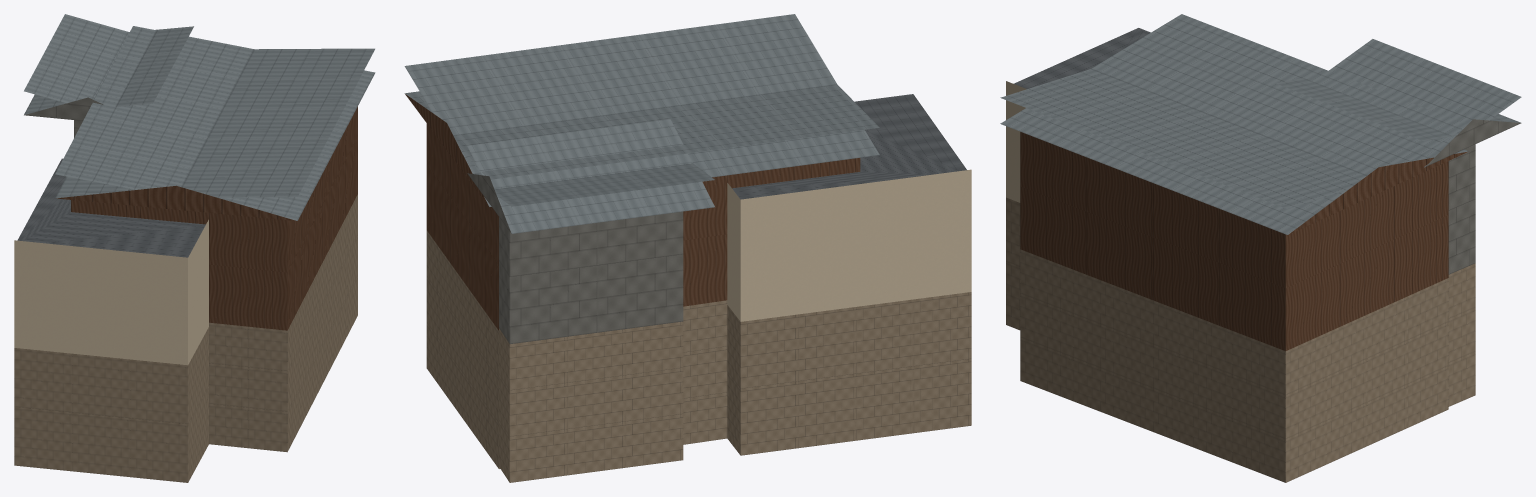
Rendered from bld_c11_11_495.gltf.
3 renders of one model, left to right at view 1: azimuth 30°, elevation 25°; view 2: azimuth 150°, elevation 25°; view 3: azimuth 270°, elevation 25°, orthographic. The views are drawn at different scales.
Visible parts, largest first — view 1: bld_c11_11_495; view 2: bld_c11_11_495; view 3: bld_c11_11_495.
Boxes of the visible parts, left/top/right/bottom form: bld_c11_11_495: left=14, top=14, right=375, bottom=482; bld_c11_11_495: left=404, top=14, right=971, bottom=482; bld_c11_11_495: left=1000, top=14, right=1521, bottom=482.
Bounding box in the file's own units: 18.73 × 11.1 × 18.18.
9 materials, 9 textured.
